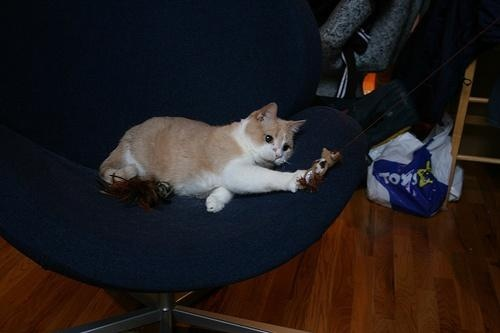cat: (99, 101, 312, 213)
chair: (1, 1, 370, 330)
